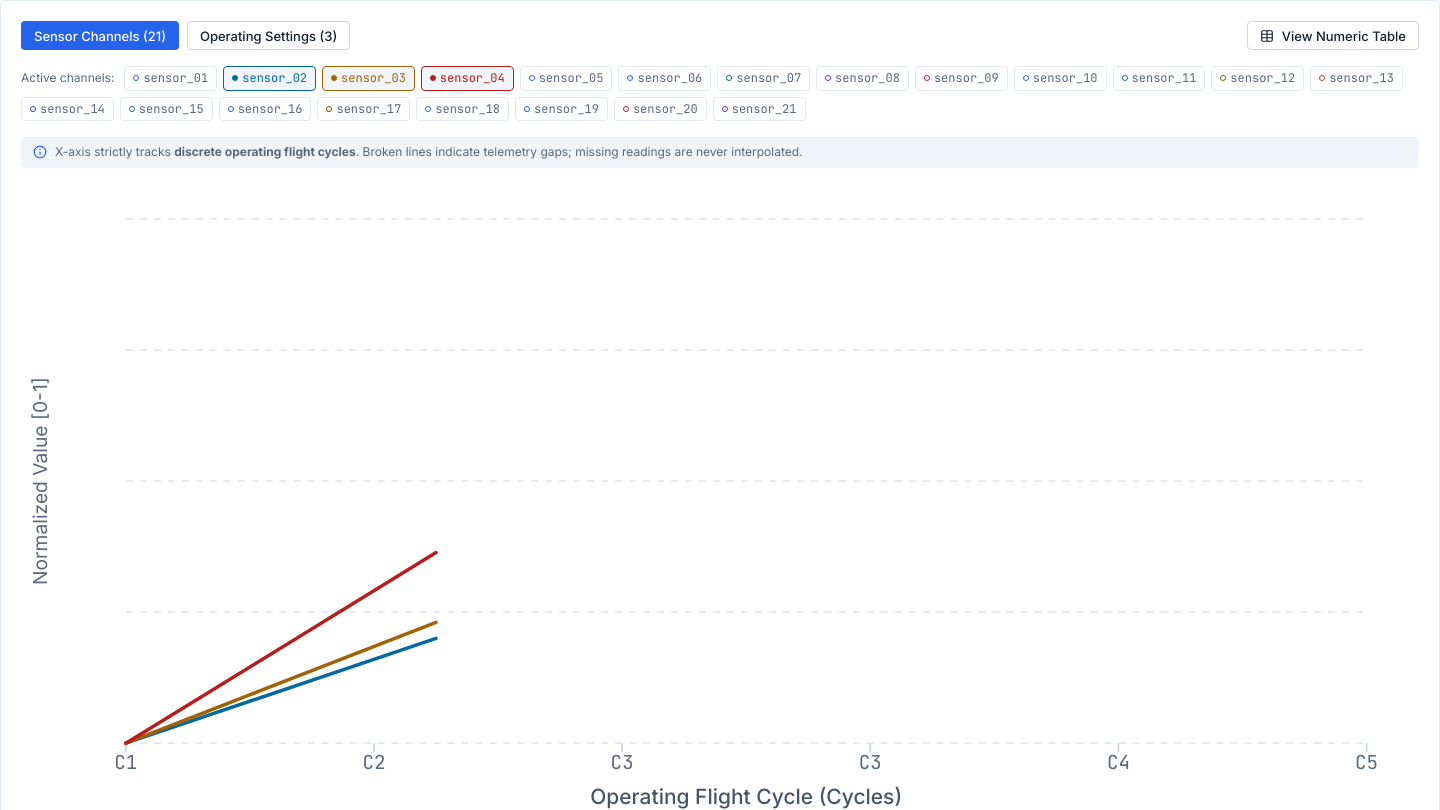
Scenario: SensorTrendChart › allows switching to tabular view and displays discrete cycle records
This screenshot has width=1440, height=810.
Click the button "View Numeric Table". click: (1333, 36)
box: [1247,21,1419,50]
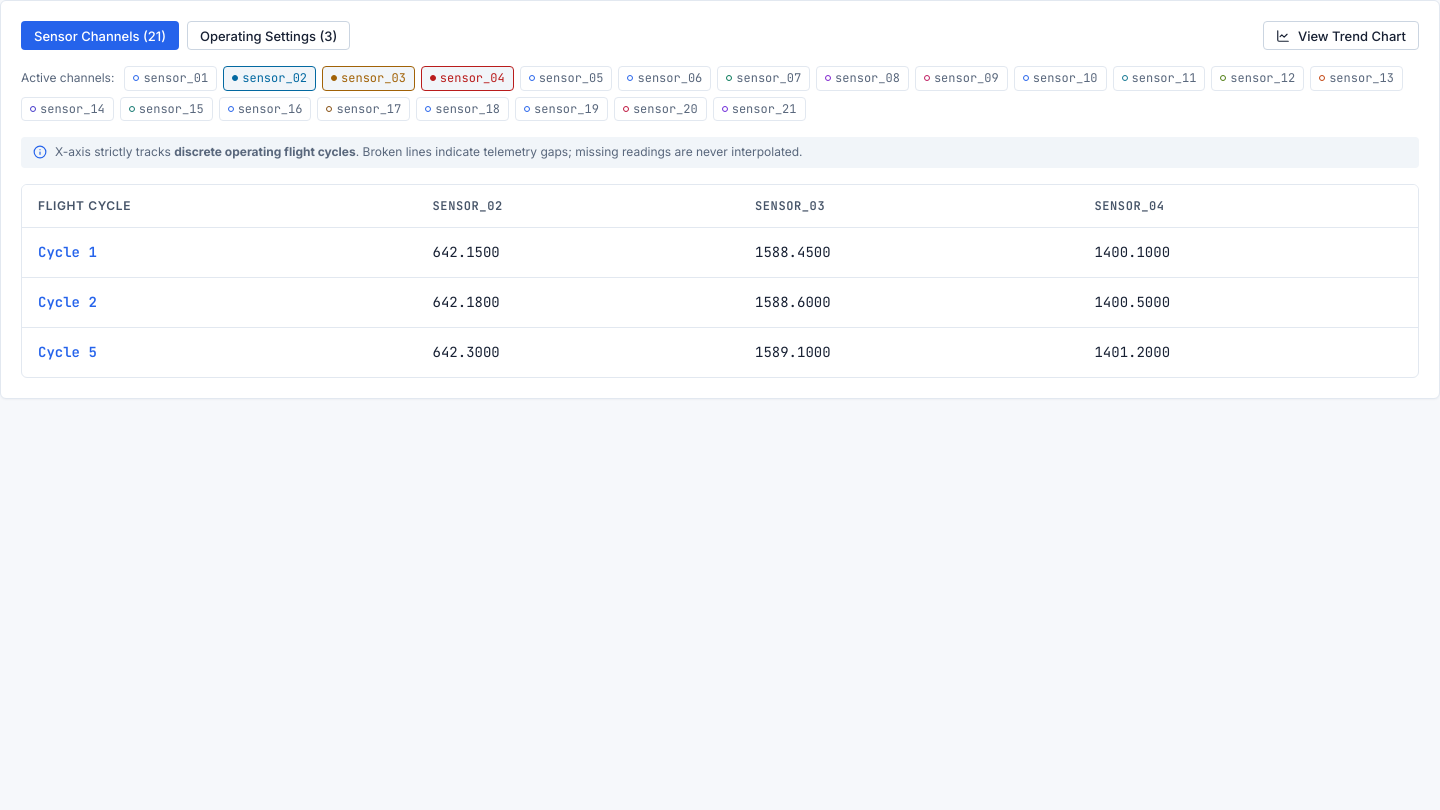
Expected: the table is shown, [22,185,1418,377]
Expected: the text "Cycle 1" is shown, [22,227,416,277]
Expected: the text "Cycle 2" is shown, [22,277,416,327]
